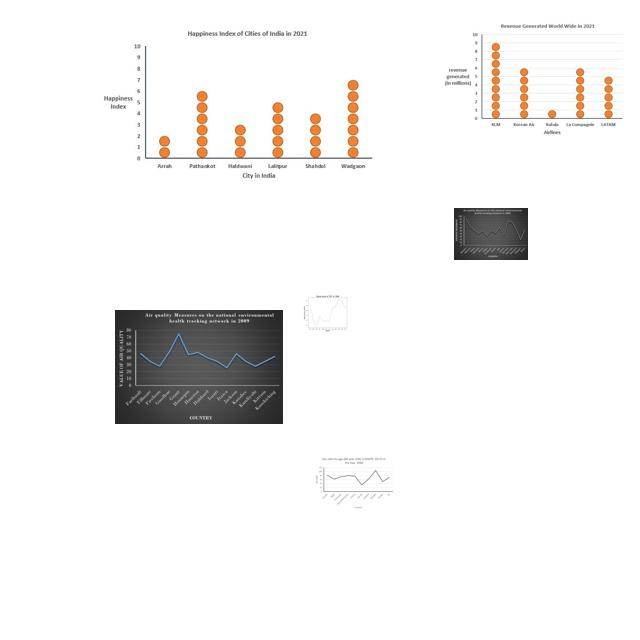Graph: (96, 26, 375, 187), (443, 22, 626, 138), (115, 310, 283, 424), (313, 456, 394, 510), (454, 208, 528, 260), (299, 293, 355, 332)
